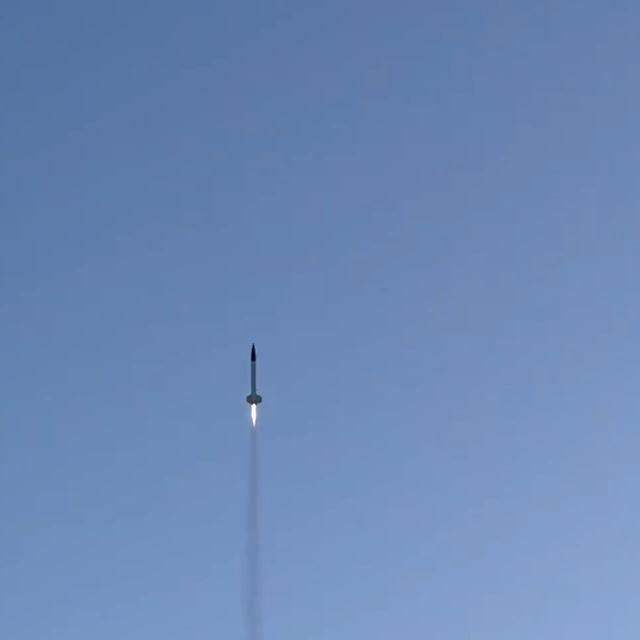rocket: (250, 343, 257, 397)
